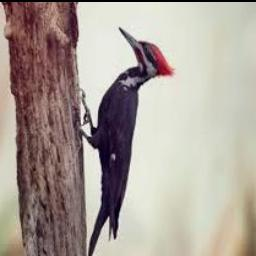Woodpecker: (78, 26, 174, 256)
